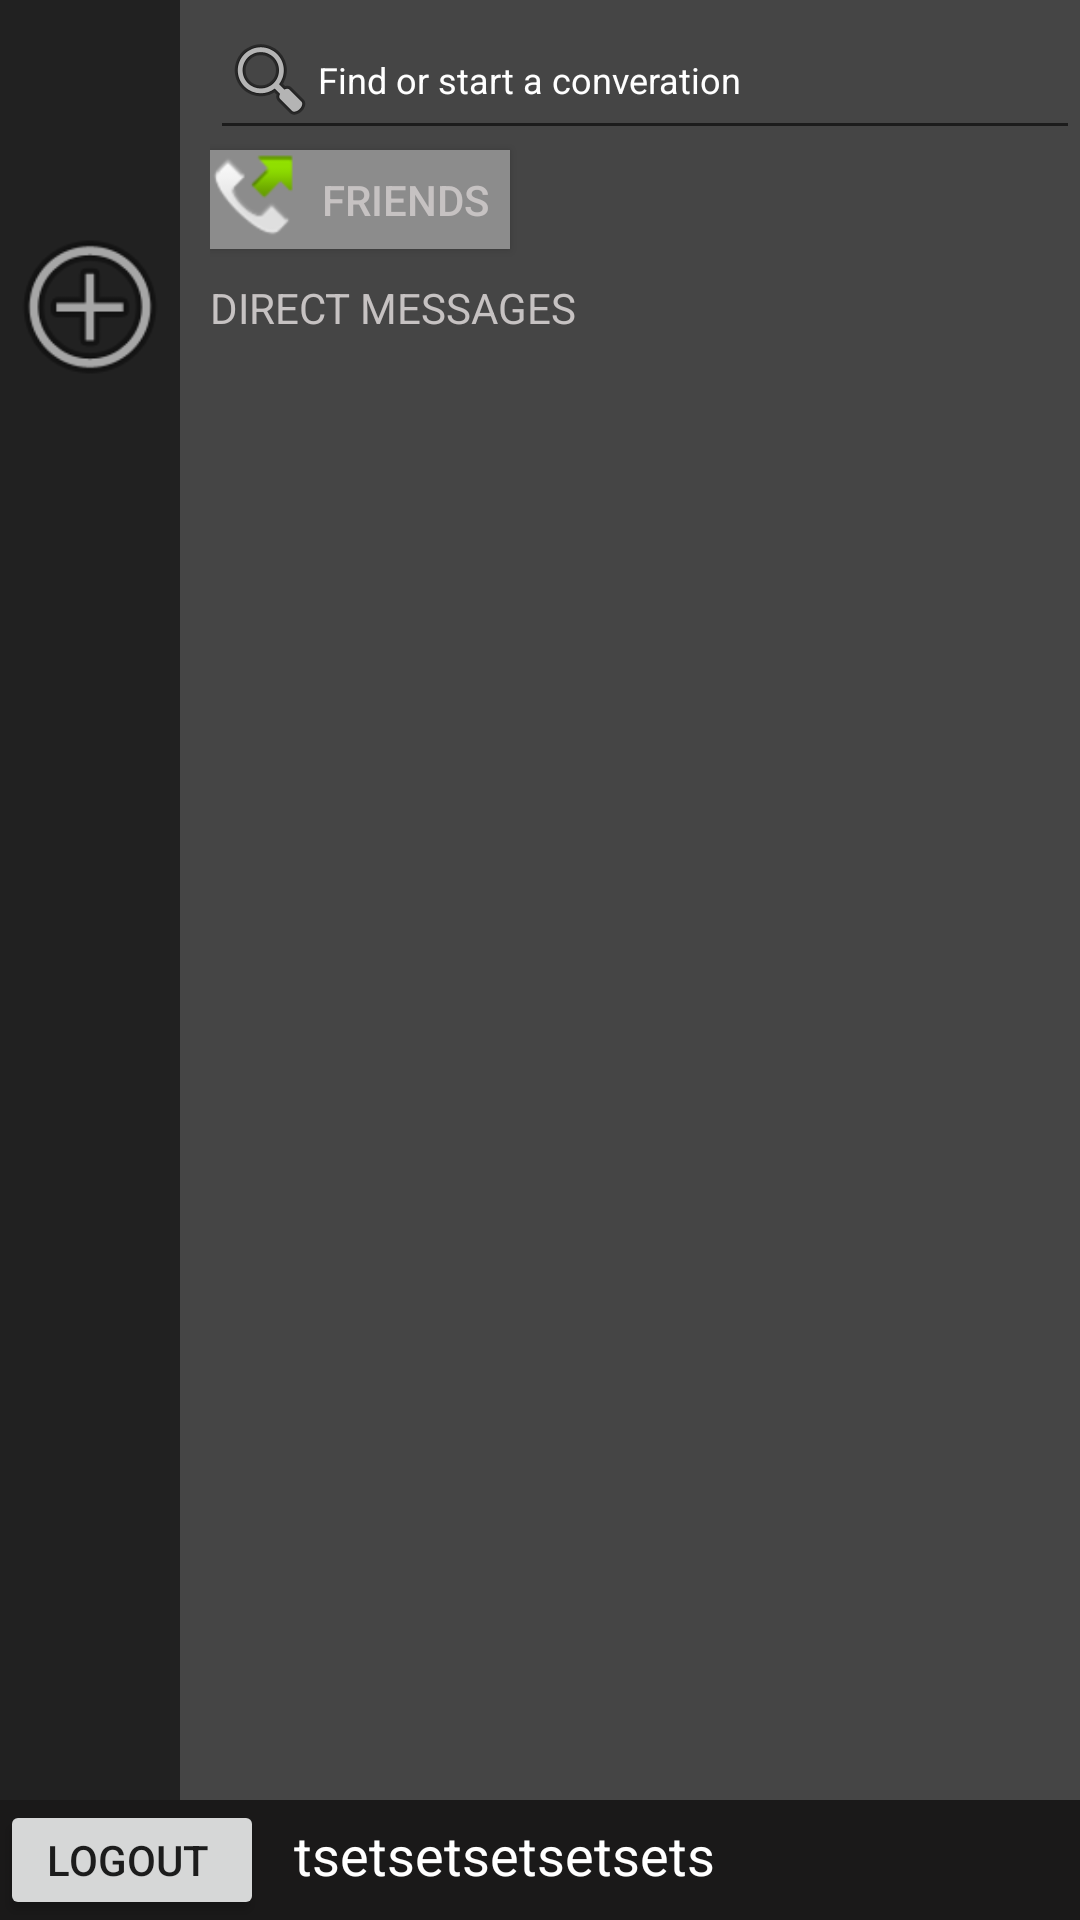

Named icons in this screenshot (1080 x 1920) and their bounding boxes, (x1, y1, x2, y2):
add: (29, 246, 151, 368)
